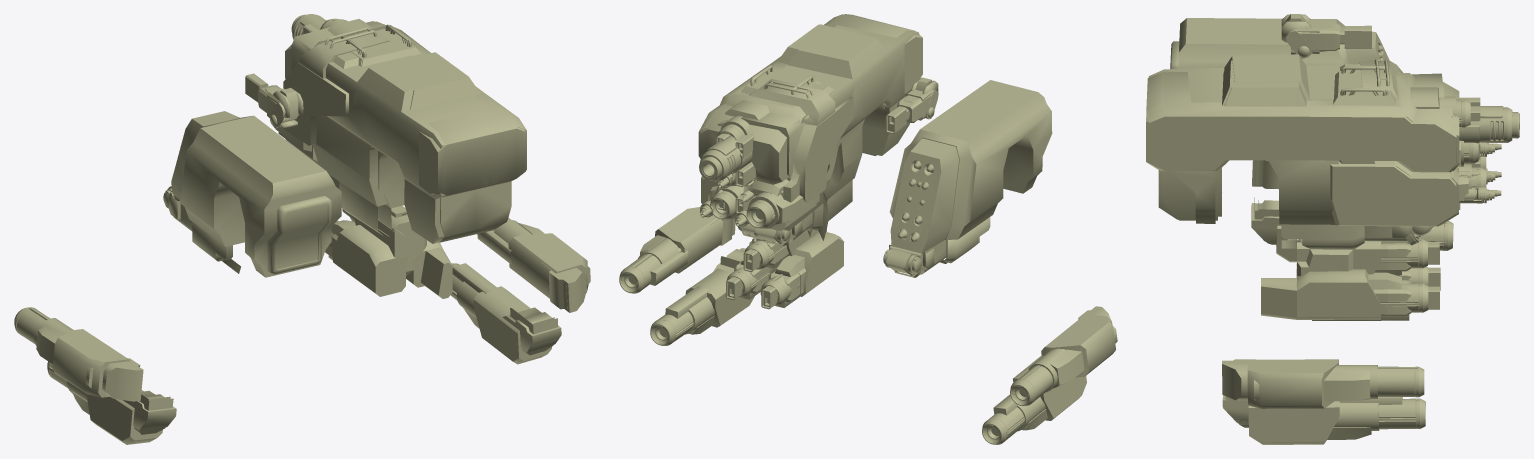
File: HunchbackWeapons.glb
3 views of the same model, side by side, from view 1: azimuth 30°, elevation 25°; view 2: azimuth 150°, elevation 25°; view 3: azimuth 270°, elevation 25° (orthographic). The views are drawn at different scales.
Parts seen in each view (by area): view 1: Torso_Right_EH1_PPC, Torso_Left_MH1_Missile4, Torso_Right_BH1_AC20, Torso_Left_MH1_Missile10, Forearm_Left_EH2_PPC, Torso_Right_BH1_AC5, Forearm_Right_EH1_PPC, Forearm_Right_EH2_PPC, Torso_Left_MH1_Missile6, Torso_Right_BH1_AC2, Torso_Right_BH1_AC10, Forearm_Left_EH1_PPC (+14 smaller); view 2: Torso_Right_EH1_PPC, Torso_Left_MH1_Missile4, Torso_Left_MH1_Missile6, Torso_Right_BH1_MG, Forearm_Left_EH2_PPC, Forearm_Right_EH2_PPC, Torso_Left_MH1_Missile10, Forearm_Right_EH1_PPC, Forearm_Left_EH1_PPC, Torso_Right_EH8_Flamer, Torso_Left_MH1_Missile2, Torso_Right_EH4_PPC (+11 smaller); view 3: Torso_Right_BH1_MG, Torso_Right_BH1_AC10, Torso_Right_EH1_PPC, Forearm_Right_EH2_PPC, Torso_Right_BH3_AC2, Forearm_Right_EH1_PPC, Torso_Right_BH3_AC5, Torso_Right_EH9_PPC, Torso_Right_MH1_Missile2, Torso_Right_BH1_AC20, Torso_Right_MH1_Missile10, Torso_Right_EH7_PPC (+22 smaller).
Part boxes in pixels (x1=…): Torso_Right_EH1_PPC: x1=283, y1=18, x2=488, y2=243; Torso_Left_MH1_Missile4: x1=163, y1=111, x2=341, y2=276; Torso_Right_BH1_AC20: x1=321, y1=21, x2=525, y2=235; Torso_Left_MH1_Missile10: x1=171, y1=116, x2=331, y2=277; Forearm_Left_EH2_PPC: x1=14, y1=307, x2=129, y2=397; Torso_Right_BH1_AC5: x1=348, y1=43, x2=523, y2=240; Forearm_Right_EH1_PPC: x1=450, y1=263, x2=557, y2=364; Forearm_Right_EH2_PPC: x1=477, y1=218, x2=588, y2=310; Torso_Left_MH1_Missile6: x1=166, y1=135, x2=328, y2=269; Torso_Right_BH1_AC2: x1=344, y1=21, x2=512, y2=242; Torso_Right_BH1_AC10: x1=348, y1=30, x2=525, y2=233; Forearm_Left_EH1_PPC: x1=47, y1=361, x2=170, y2=444; Torso_Right_EH1_PPC: x1=717, y1=25, x2=919, y2=246; Torso_Left_MH1_Missile4: x1=883, y1=122, x2=1052, y2=277; Torso_Left_MH1_Missile6: x1=883, y1=80, x2=1051, y2=277; Torso_Right_BH1_MG: x1=699, y1=14, x2=904, y2=242; Forearm_Left_EH2_PPC: x1=1010, y1=314, x2=1115, y2=405; Forearm_Right_EH2_PPC: x1=619, y1=207, x2=733, y2=293; Torso_Left_MH1_Missile10: x1=890, y1=102, x2=1029, y2=253; Forearm_Right_EH1_PPC: x1=650, y1=256, x2=754, y2=345; Forearm_Left_EH1_PPC: x1=982, y1=376, x2=1086, y2=444; Torso_Right_EH8_Flamer: x1=761, y1=234, x2=843, y2=309; Torso_Left_MH1_Missile2: x1=900, y1=102, x2=1051, y2=208; Torso_Right_EH4_PPC: x1=746, y1=190, x2=819, y2=230; Torso_Right_BH1_MG: x1=1148, y1=61, x2=1501, y2=249; Torso_Right_BH1_AC10: x1=1146, y1=67, x2=1456, y2=242; Torso_Right_EH1_PPC: x1=1148, y1=54, x2=1470, y2=240; Forearm_Right_EH2_PPC: x1=1247, y1=359, x2=1424, y2=408; Torso_Right_BH3_AC2: x1=1330, y1=161, x2=1494, y2=225; Forearm_Right_EH1_PPC: x1=1238, y1=397, x2=1425, y2=444; Torso_Right_BH3_AC5: x1=1330, y1=166, x2=1488, y2=226; Torso_Right_EH9_PPC: x1=1261, y1=272, x2=1428, y2=320; Torso_Right_MH1_Missile2: x1=1175, y1=162, x2=1432, y2=249; Torso_Right_BH1_AC20: x1=1146, y1=61, x2=1456, y2=245; Torso_Right_MH1_Missile10: x1=1175, y1=160, x2=1418, y2=238; Torso_Right_EH7_PPC: x1=1297, y1=239, x2=1427, y2=276.
Size of the model in its own units: 1.84 by 1.14 by 1.21.
